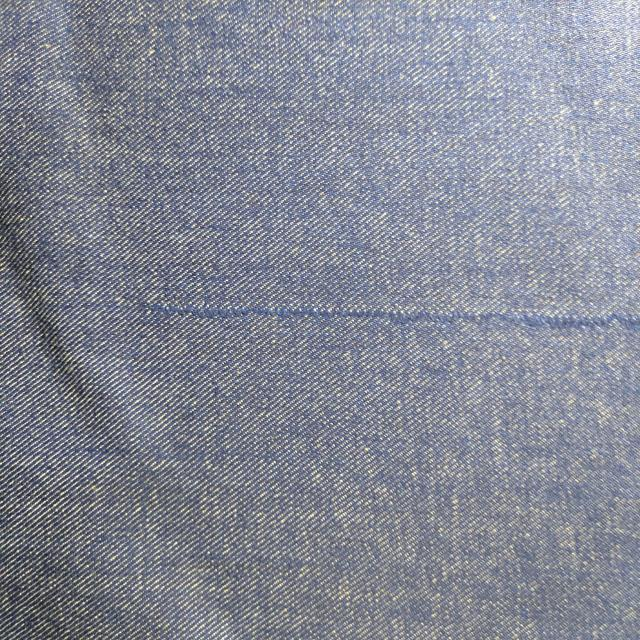Line: (134, 301, 640, 327)
